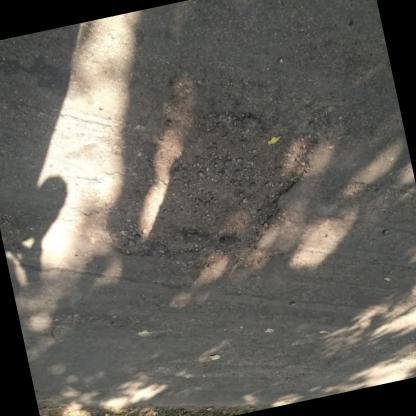pothole: (83, 82, 340, 280)
